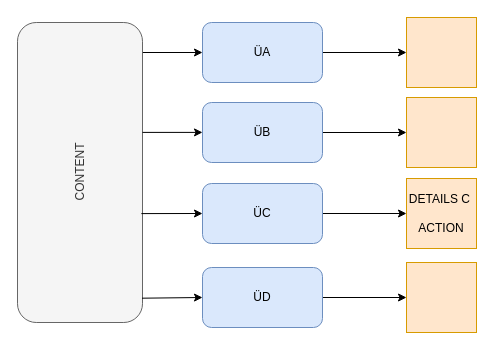
This 494x350 diagram has some shape labels left out. The centre of each missing label's shape, as x and y in pixels:
"DETAILS A ACTION" belongs at (441,52).
"DETAILS B ACTION" belongs at (441,132).
"DETAILS D ACTION" belongs at (441,297).
